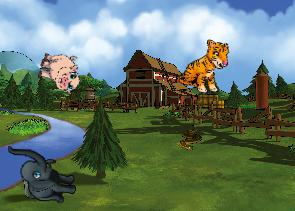elephant: (6, 145, 77, 203)
pig: (34, 48, 84, 95)
tiger: (177, 35, 232, 97)
